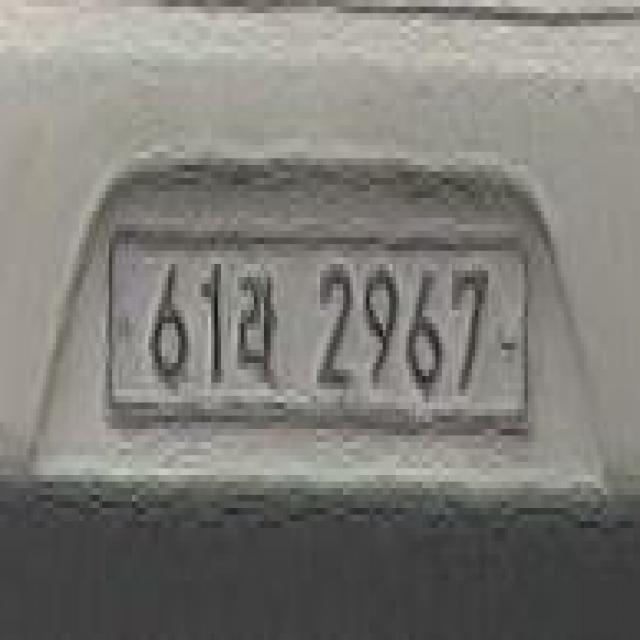1: (199, 256, 229, 389)
2: (315, 249, 358, 401)
6: (144, 252, 190, 390), (405, 261, 448, 404)
7: (451, 260, 493, 398)
9: (362, 258, 400, 395)
la: (235, 260, 284, 395)
license_plate: (102, 214, 544, 456)
